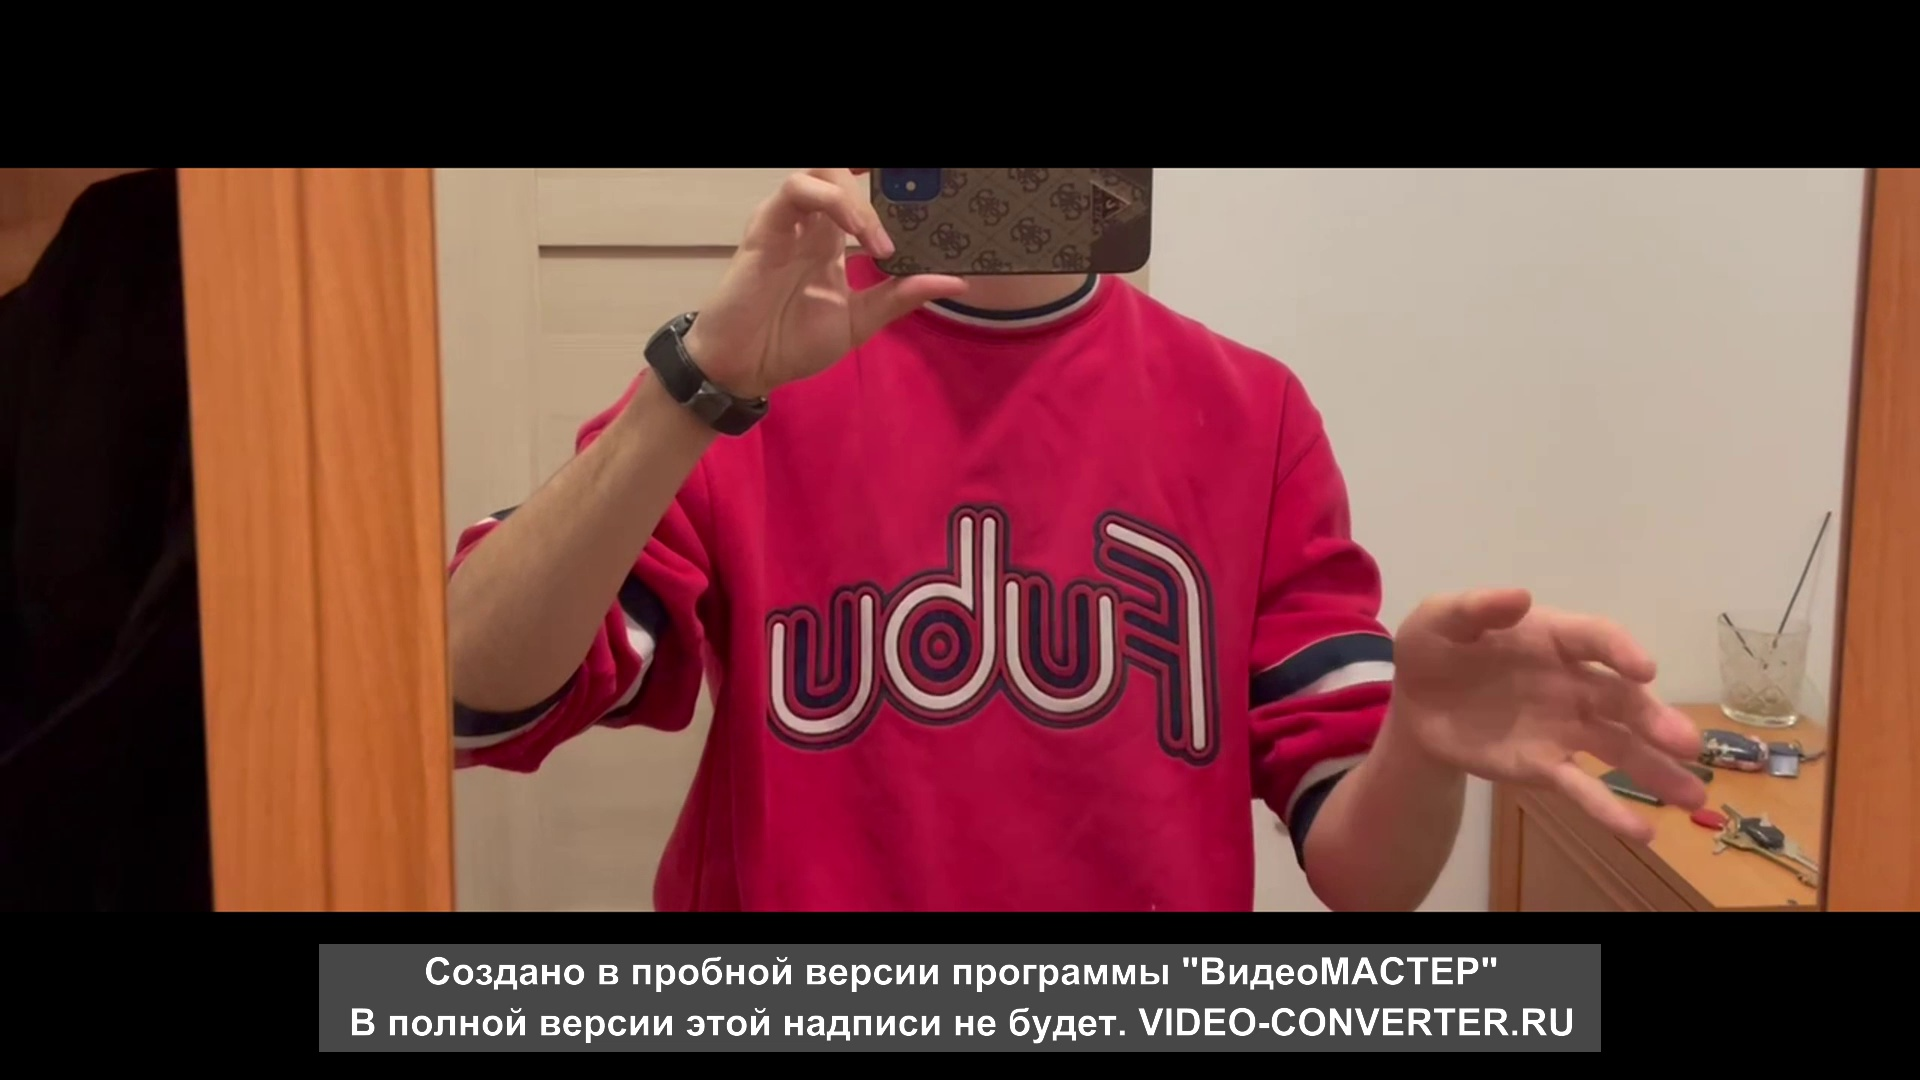Ладонь: (1390, 583, 1706, 844)
